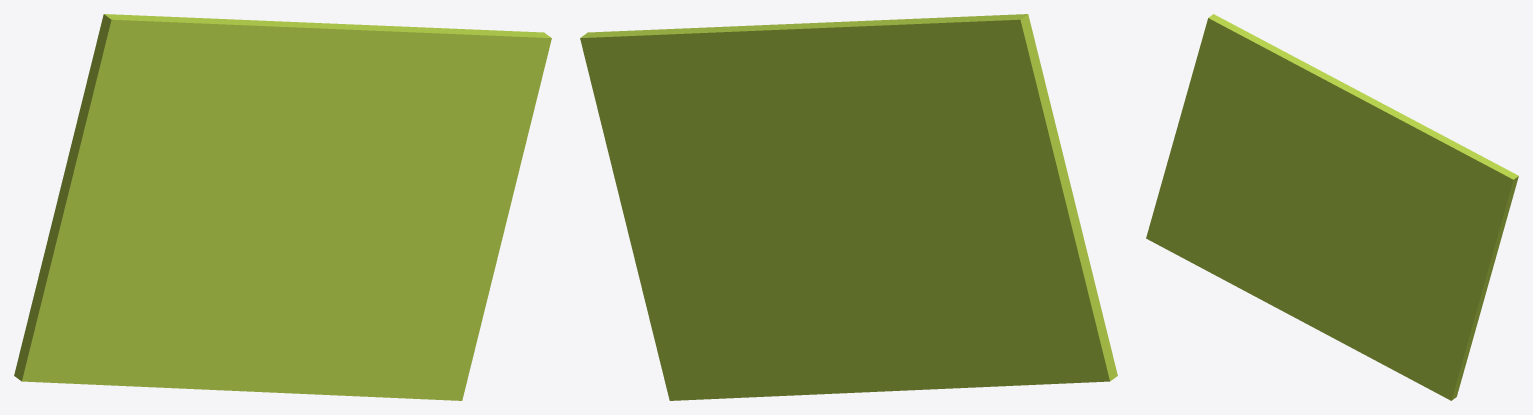
3 views of the same model, side by side, from view 1: azimuth 30°, elevation 25°; view 2: azimuth 150°, elevation 25°; view 3: azimuth 330°, elevation 25° (orthographic). The views are drawn at different scales.
Visible parts, largest first — view 1: osm-way27917482-F3; view 2: osm-way27917482-F3; view 3: osm-way27917482-F3.
Boxes of the visible parts, box(x1,y1,x2,y2) form: osm-way27917482-F3: box(14, 14, 551, 400); osm-way27917482-F3: box(580, 14, 1117, 400); osm-way27917482-F3: box(1146, 14, 1518, 400).
Bounding box in the file's own units: 5.88 × 4.95 × 0.15.
